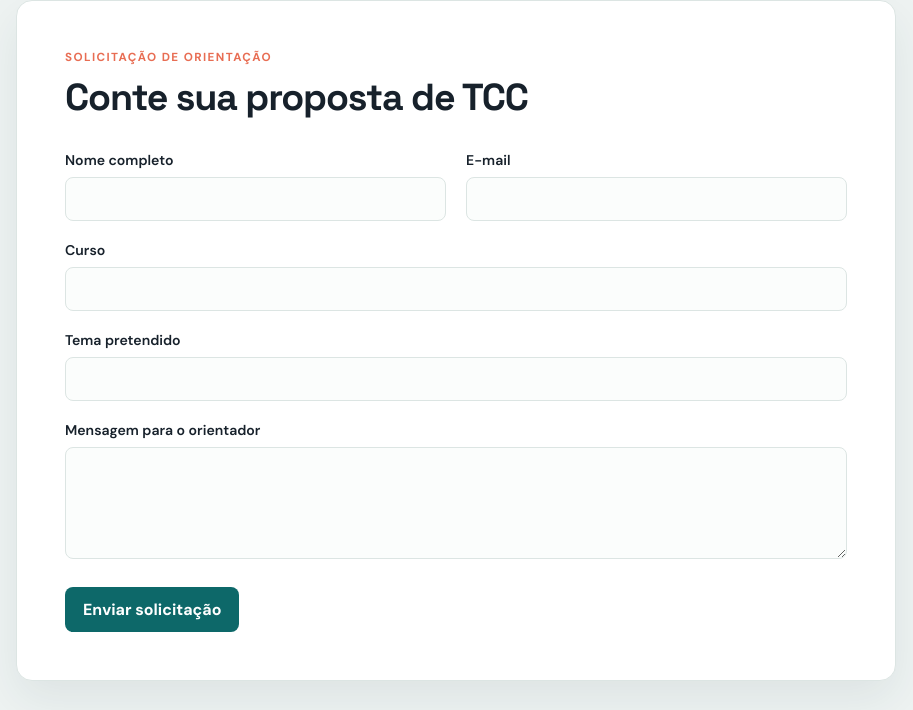
Test case: SolicitacaoForm › usa o id devolvido no 201 para disponibilizar acompanhamento sem buscar de novo
This screenshot has width=913, height=710.
Type "Ana Souza" into the field labelled "Nome completo". click: (256, 199)
box: [65,177,446,221]
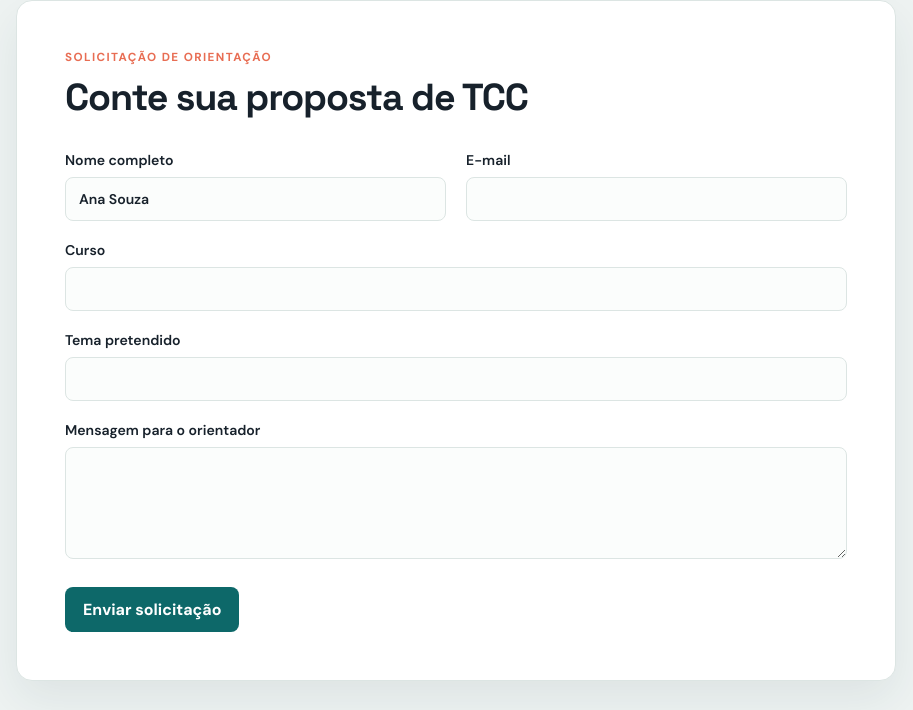
Type "ana@example.com" into the field labelled "E-mail". click: (656, 199)
box: [466,177,847,221]
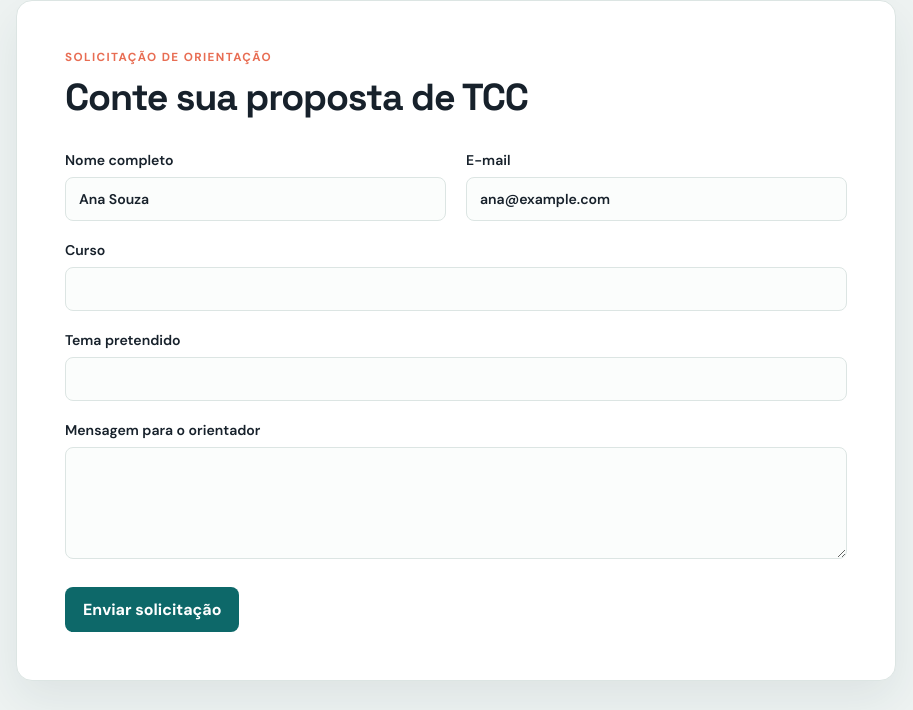
Type "ADS" into the field labelled "Curso". click: (456, 289)
box: [65,267,847,311]
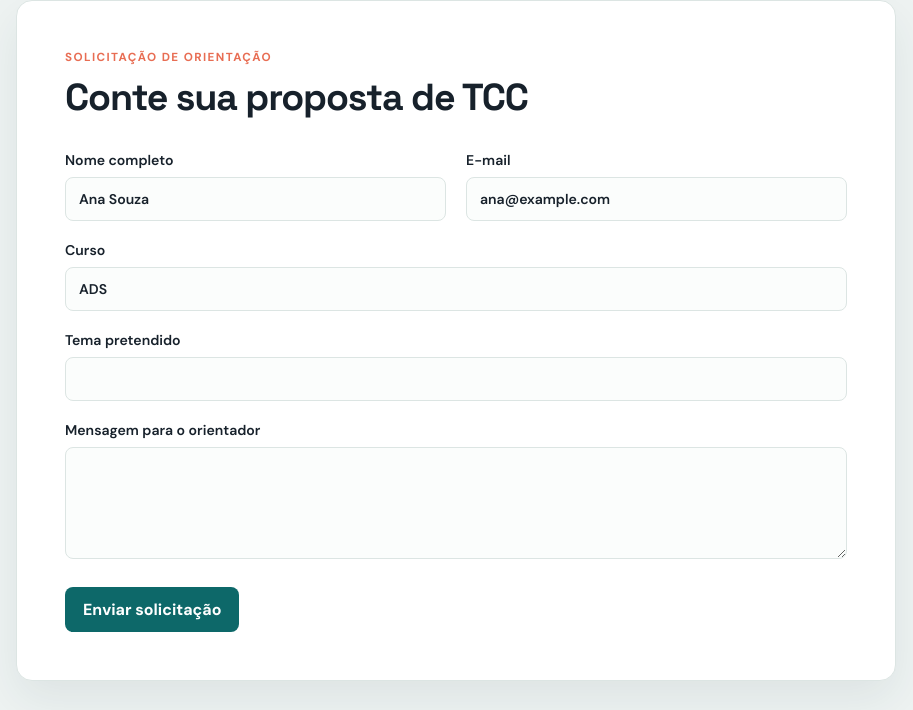
Type "Tema de teste" into the field labelled "Tema pretendido". click: (456, 379)
box: [65,357,847,401]
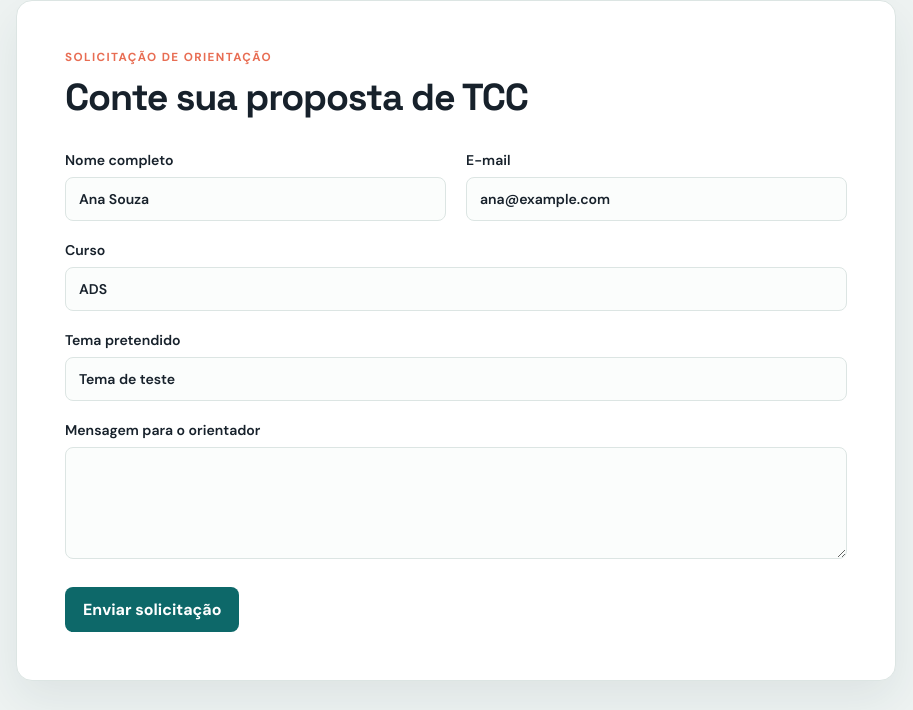
Type "Mensagem válida de teste" into the text box labelled "Mensagem para o orientador". click: (456, 503)
box: [65,447,847,559]
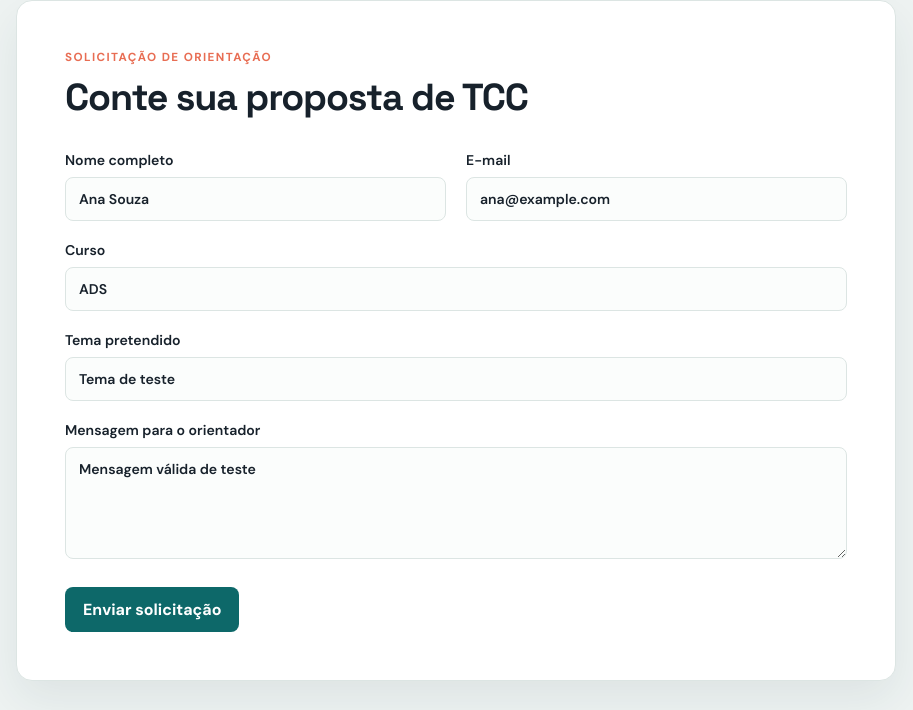
Click the button "Enviar solicitação". click: (152, 610)
box: [65,587,239,632]
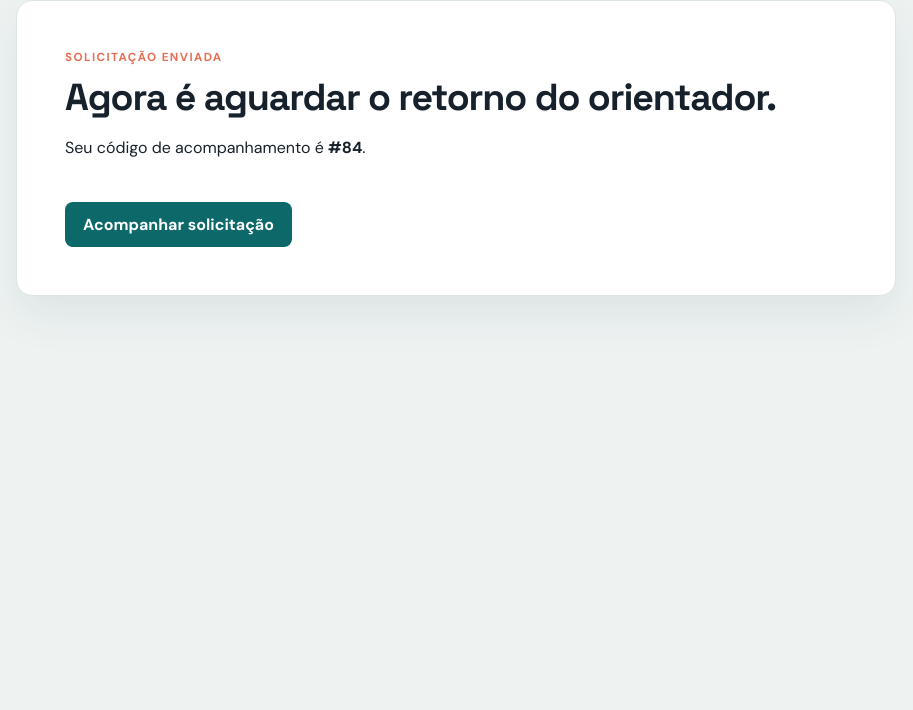
Expected: the text "#84" is shown, [328,137,362,158]
